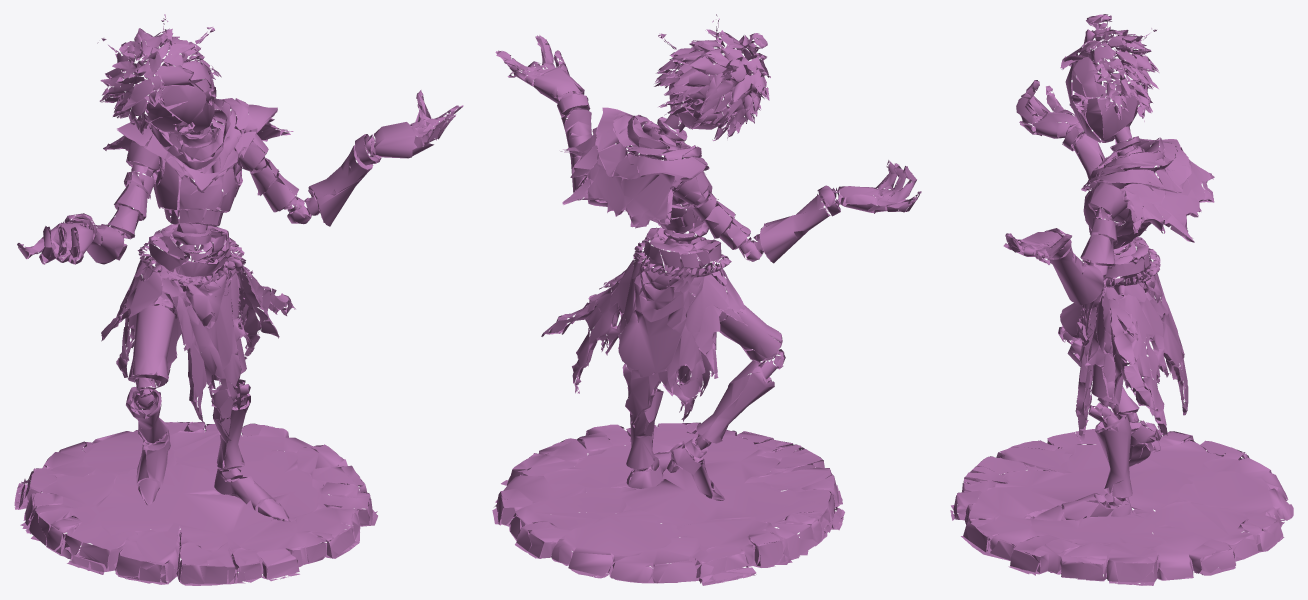
Rendered from possessed.glb.
3 renders of one model, left to right at view 1: azimuth 30°, elevation 25°; view 2: azimuth 150°, elevation 25°; view 3: azimuth 270°, elevation 25°, orthographic. The views are drawn at different scales.
Visible parts, largest first — view 1: model; view 2: model; view 3: model.
Part boxes in pixels (x1,y1,x2,y2): model: (14,14,463,585); model: (492,14,921,585); model: (950,14,1293,585).
Size of the model in its own units: 1.7 by 1.9 by 1.23.
